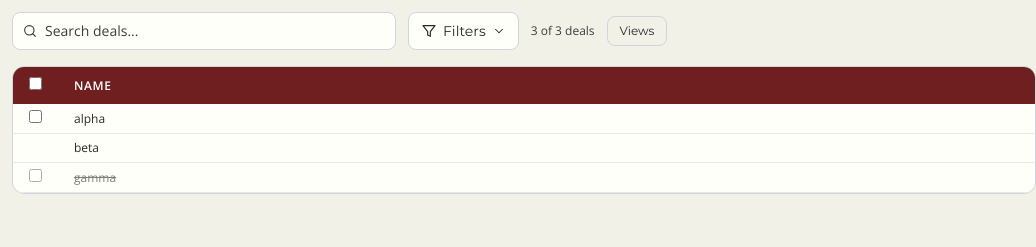
Test: selection › select-all ignores unselectable rows, so it can still tick AND clear
Step 1. Click the checkbox named "Select all visible" → [36, 84], box [29,77,42,90]
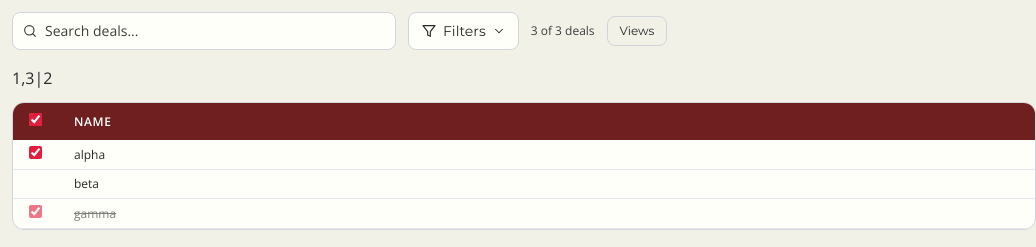
Check: the checkbox named "Select all visible" is checked
Check: the text with test id "bulk" reads "1,3|2", box [12,67,34,89]
Step 2. Click the checkbox named "Select all visible" → [36, 120], box [29,113,42,126]
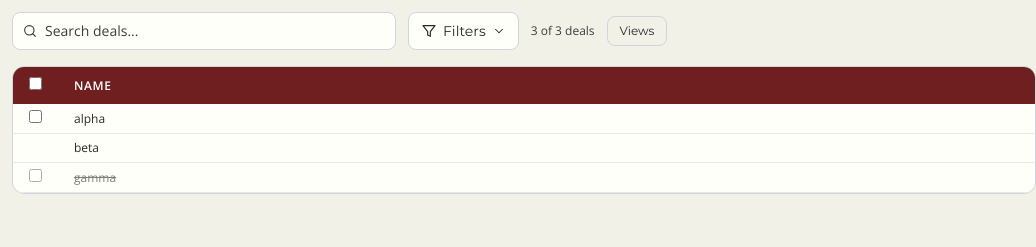
Check: the checkbox named "Select all visible" is not checked, box [29,77,42,90]
Check: the text with test id "bulk" is gone
